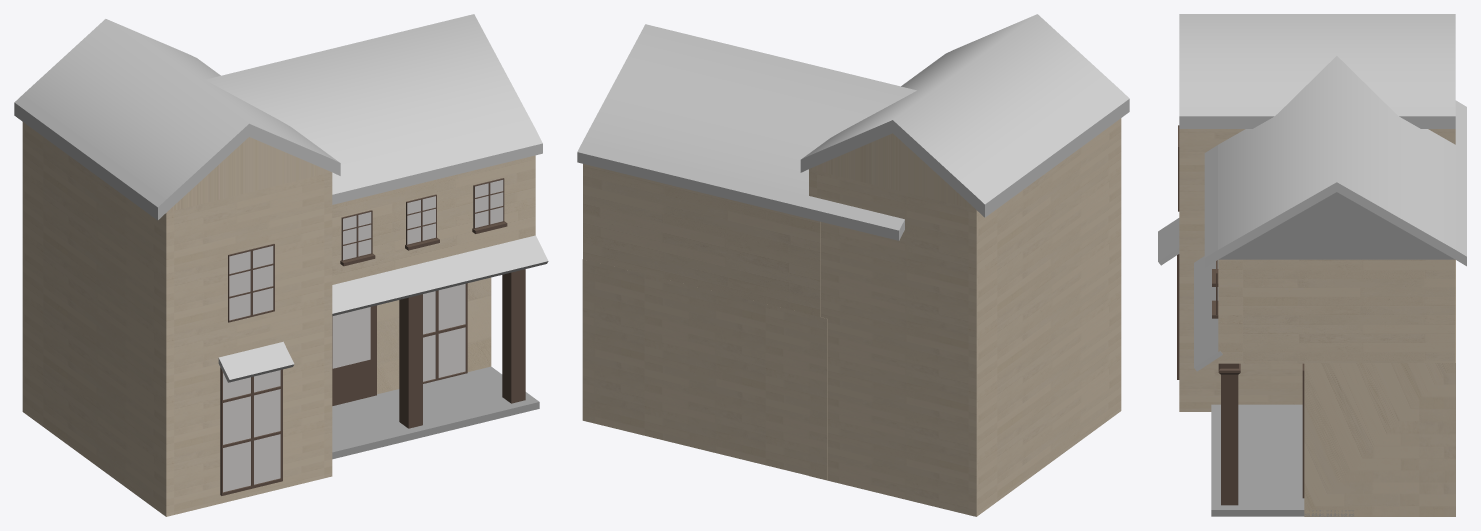
The model's file is house3.fbx.
3 renders of one model, left to right at view 1: azimuth 30°, elevation 25°; view 2: azimuth 150°, elevation 25°; view 3: azimuth 270°, elevation 25°, orthographic. The views are drawn at different scales.
Parts seen in each view (by area): view 1: pCube1, pCube4, pCube2, pCube3, pCube6, pCube11, pCube16, pCube5, pCube9, pCube10, pCube12, pCube8 (+5 smaller); view 2: pCube1, pCube5, pCube4, pCube2, pCube3; view 3: pCube4, pCube2, pCube3, pCube5, pCube1, pCube6, pCube8, pCube16, pCube17, pCube10, pCube11.
Part boxes in pixels (x1,y1,x2,y2): pCube1: (22, 122, 332, 516); pCube4: (205, 14, 542, 204); pCube2: (14, 19, 340, 220); pCube3: (332, 155, 535, 284); pCube6: (332, 366, 539, 459); pCube11: (220, 367, 282, 495); pCube16: (332, 235, 548, 316); pCube5: (377, 277, 491, 394); pCube9: (332, 305, 376, 405); pCube10: (423, 283, 467, 383); pCube12: (228, 244, 274, 322); pCube8: (502, 269, 525, 403); pCube1: (809, 118, 1121, 516); pCube5: (582, 259, 827, 480); pCube4: (577, 24, 916, 240); pCube2: (800, 14, 1129, 217); pCube3: (583, 164, 820, 317); pCube4: (1204, 56, 1466, 267); pCube2: (1179, 14, 1455, 128); pCube3: (1218, 259, 1455, 363); pCube5: (1304, 260, 1455, 516); pCube1: (1179, 129, 1455, 411); pCube6: (1211, 404, 1353, 516); pCube8: (1218, 363, 1240, 505); pCube16: (1194, 256, 1222, 371); pCube17: (1158, 218, 1179, 265); pCube10: (1302, 363, 1304, 498); pCube11: (1177, 254, 1179, 379).
Size of the model in its own units: 16.61 by 14.86 by 11.58.
